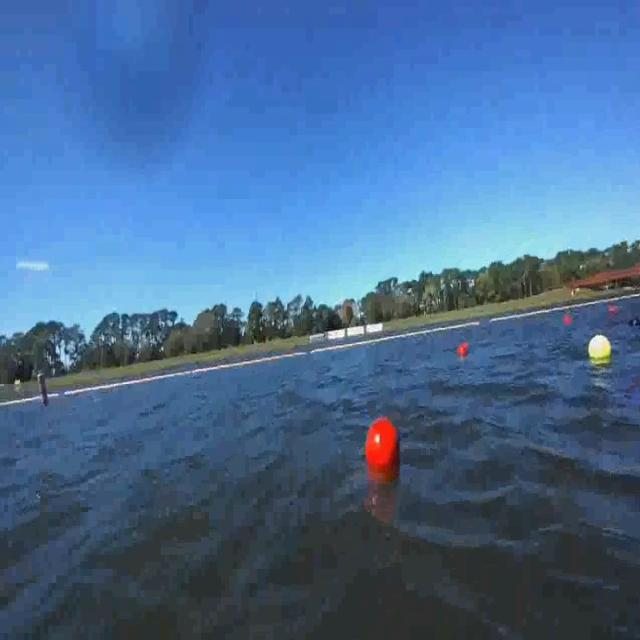black-buoy: (628, 316, 640, 328)
red-buoy: (366, 419, 398, 472), (458, 345, 468, 357), (610, 304, 620, 312), (564, 314, 572, 324)
yellow-buoy: (586, 337, 610, 362)
